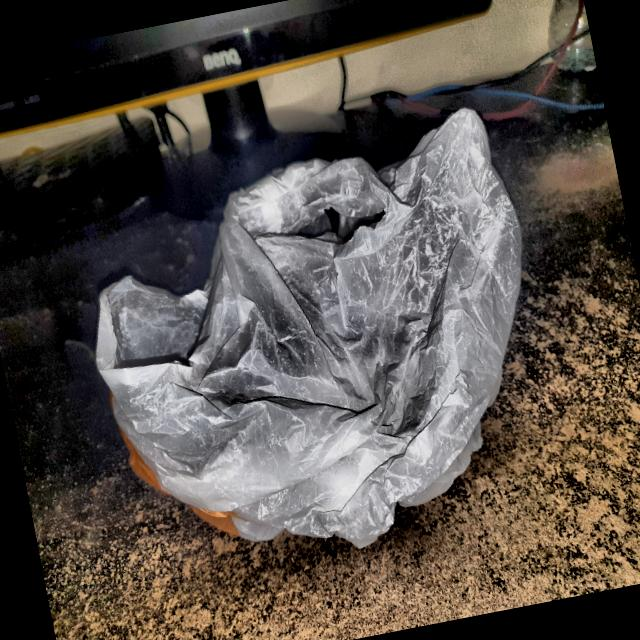plastic bag: (55, 95, 586, 602)
